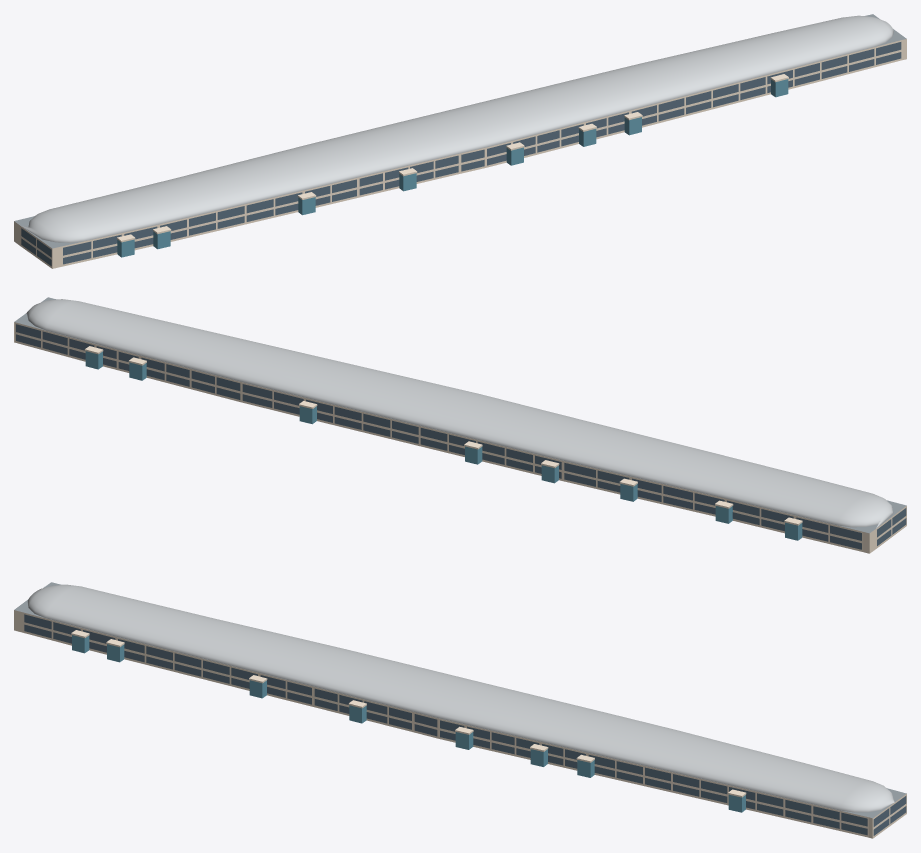
The model's file is dubai-dxb-concourse-c.glb.
The picture shows the model from 3 angles, top to bottom: view 1: azimuth 30°, elevation 25°; view 2: azimuth 150°, elevation 25°; view 3: azimuth 330°, elevation 25°; orthographic projection.
Parts seen in each view (by area): view 1: Dubai International Airport Concourse C; view 2: Dubai International Airport Concourse C; view 3: Dubai International Airport Concourse C.
Part boxes in pixels (x1,y1,x2,y2): Dubai International Airport Concourse C: (14,14,906,268); Dubai International Airport Concourse C: (14,297,906,553); Dubai International Airport Concourse C: (14,582,906,838).
Bounding box in the file's own units: 792 × 28 × 86.45.
